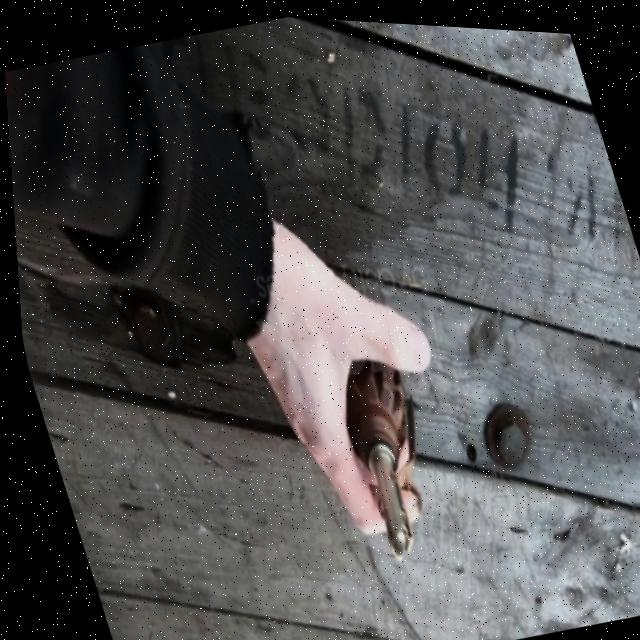grenade: (304, 342, 458, 581)
